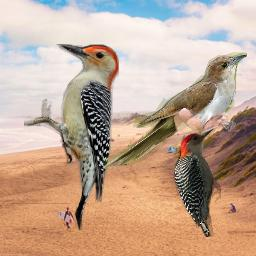Cuckoo: (102, 52, 247, 168)
Woodpecker: (24, 44, 119, 230), (173, 128, 221, 237)
